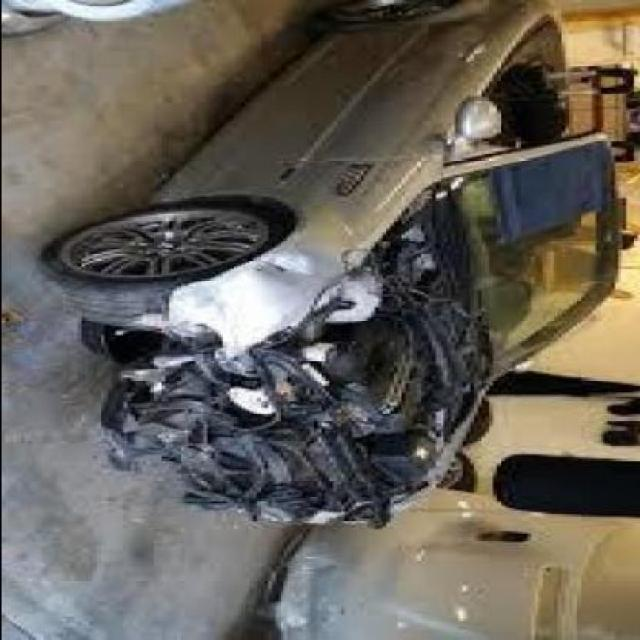damage: (99, 195, 494, 520)
